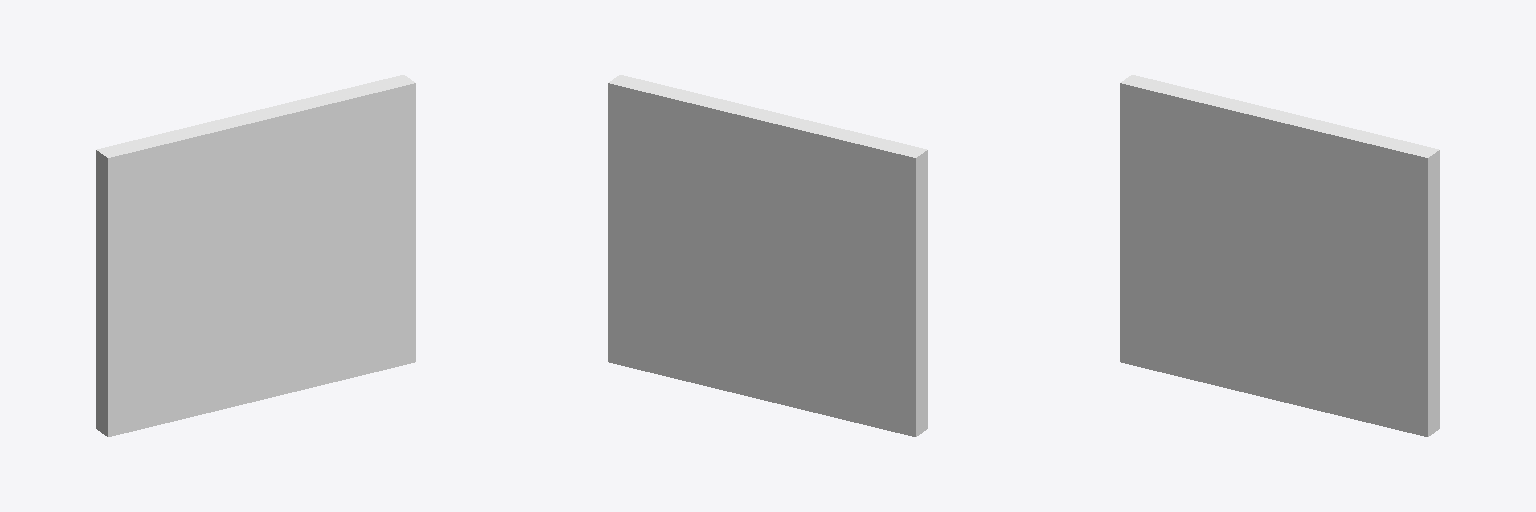
Rendered from BotonPlay.obj.
3 renders of one model, left to right at view 1: azimuth 30°, elevation 25°; view 2: azimuth 150°, elevation 25°; view 3: azimuth 330°, elevation 25°, orthographic.
Visible parts, largest first — view 1: object 1; view 2: object 1; view 3: object 1.
Boxes of the visible parts, x1,y1,x2,y2 form: object 1: [96, 75, 415, 436]; object 1: [608, 75, 927, 436]; object 1: [1120, 75, 1439, 436].
Size of the model in its own units: 1.5 by 1.3 by 0.1.